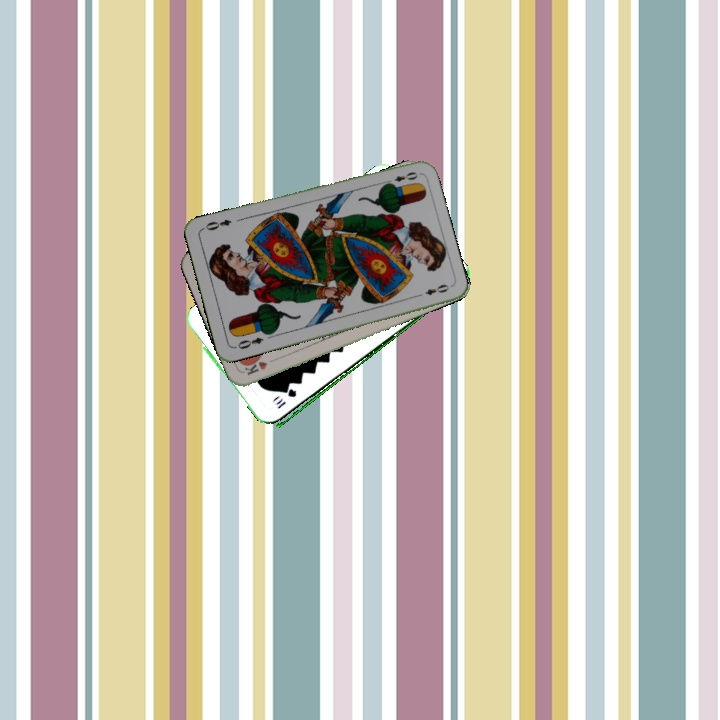EO: (381, 168, 420, 188), (231, 333, 266, 352)
G10: (273, 386, 299, 411)
HK: (240, 354, 280, 378)
